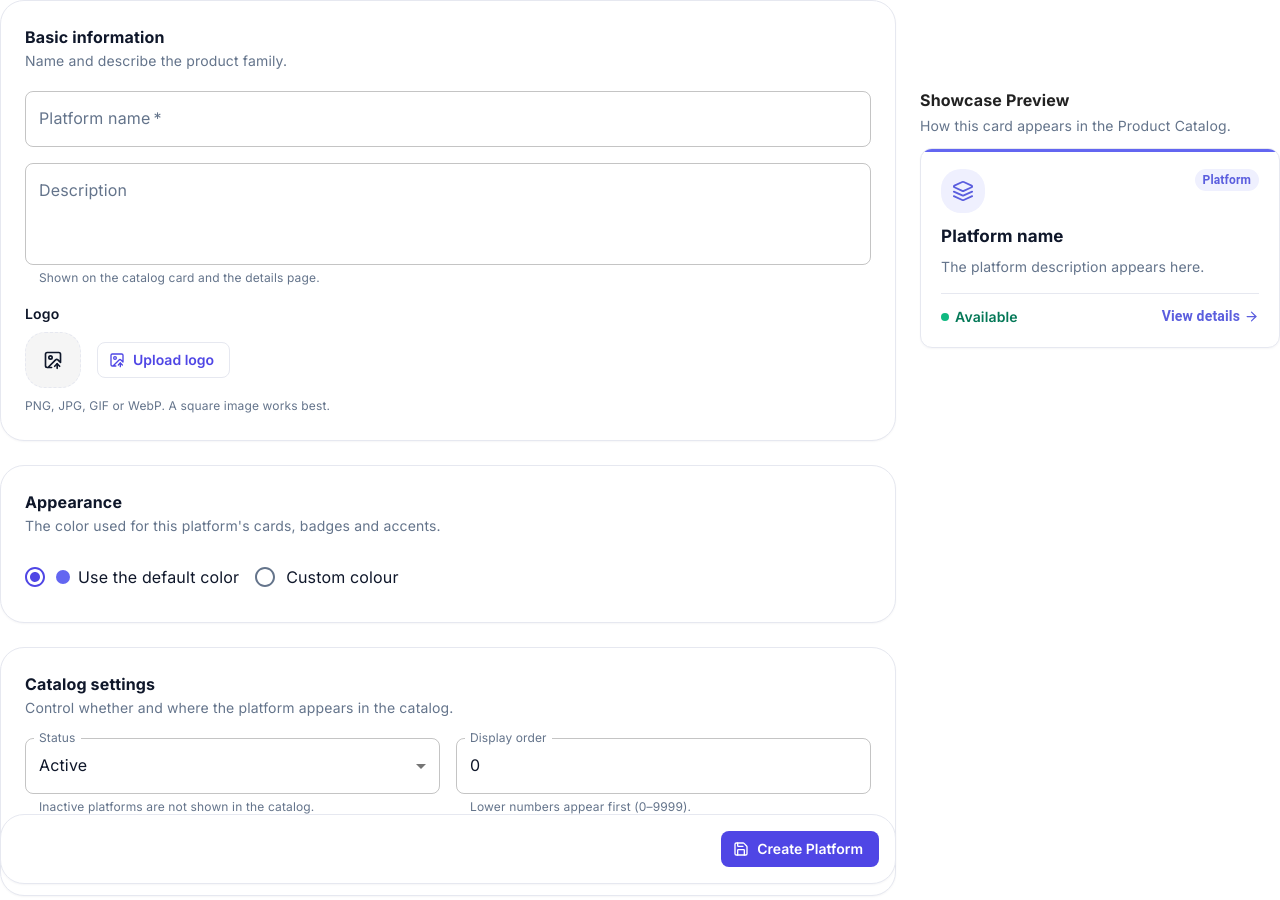
PlatformForm (C66) › shows validation only after the first submit and does not submit invalid data
Expected: the text "This field is required." is not shown
Click the button "Create Platform". click: (800, 849)
box: [721,830,879,867]
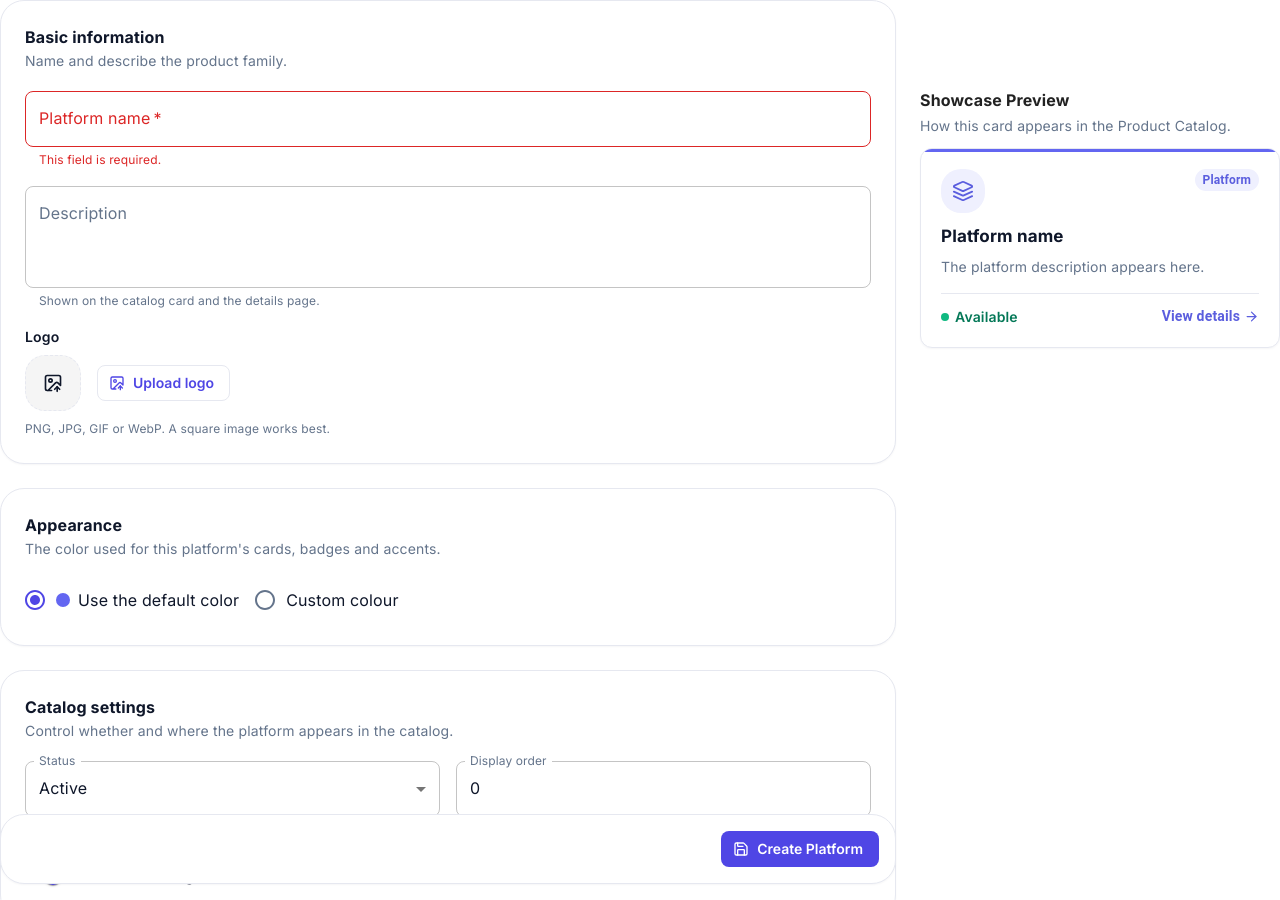
Expected: the text "This field is required." is shown, [39,152,161,167]
